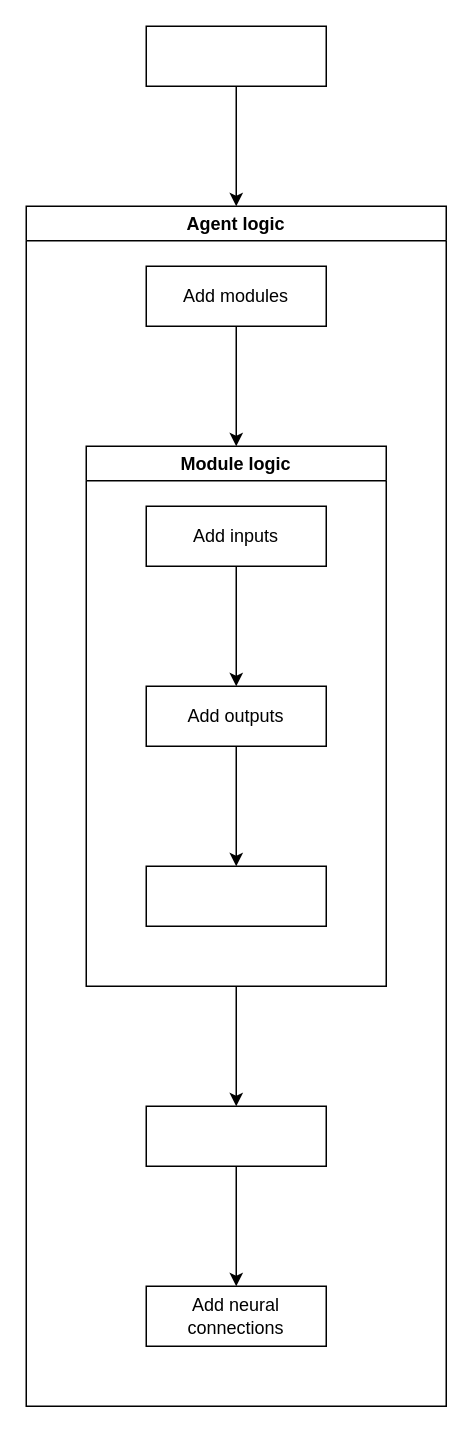
Some shapes in this 473 by 1433 pixel diagram are drawn without their labels. Each missing label, with the centre of its shape:
"Add hidden neurons" goes at point (235, 1135).
"Create agent" goes at point (235, 55).
"Subscribe events" goes at point (235, 895).
